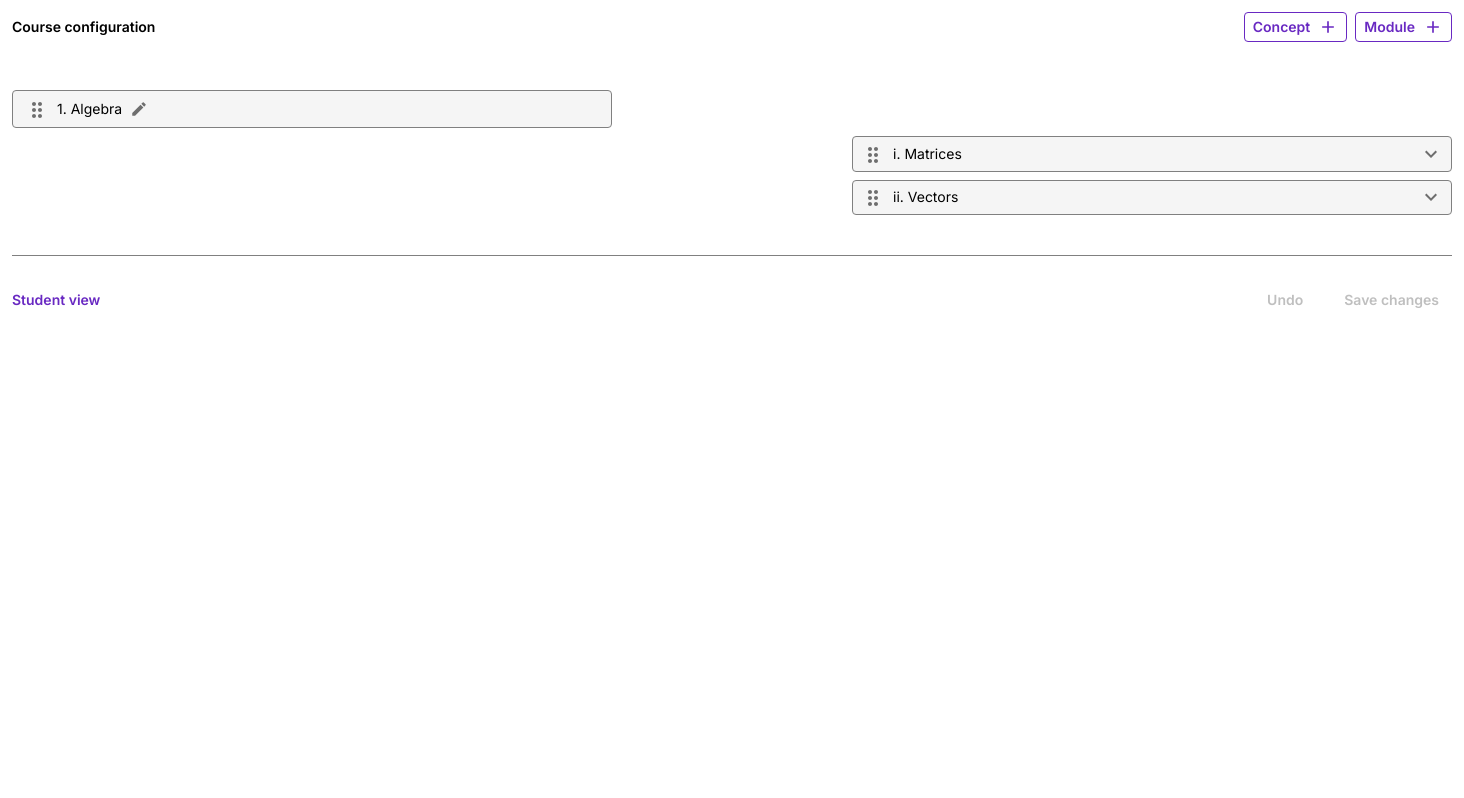
Scenario: ConfigurationTab › stages a module deletion — hiding the row and renumbering siblings — without persisting
// The module Delete link only exists once the row is expanded.
Click the button "i. Matrices" at (933, 153), box x1=893 y1=142 x2=1443 y2=166
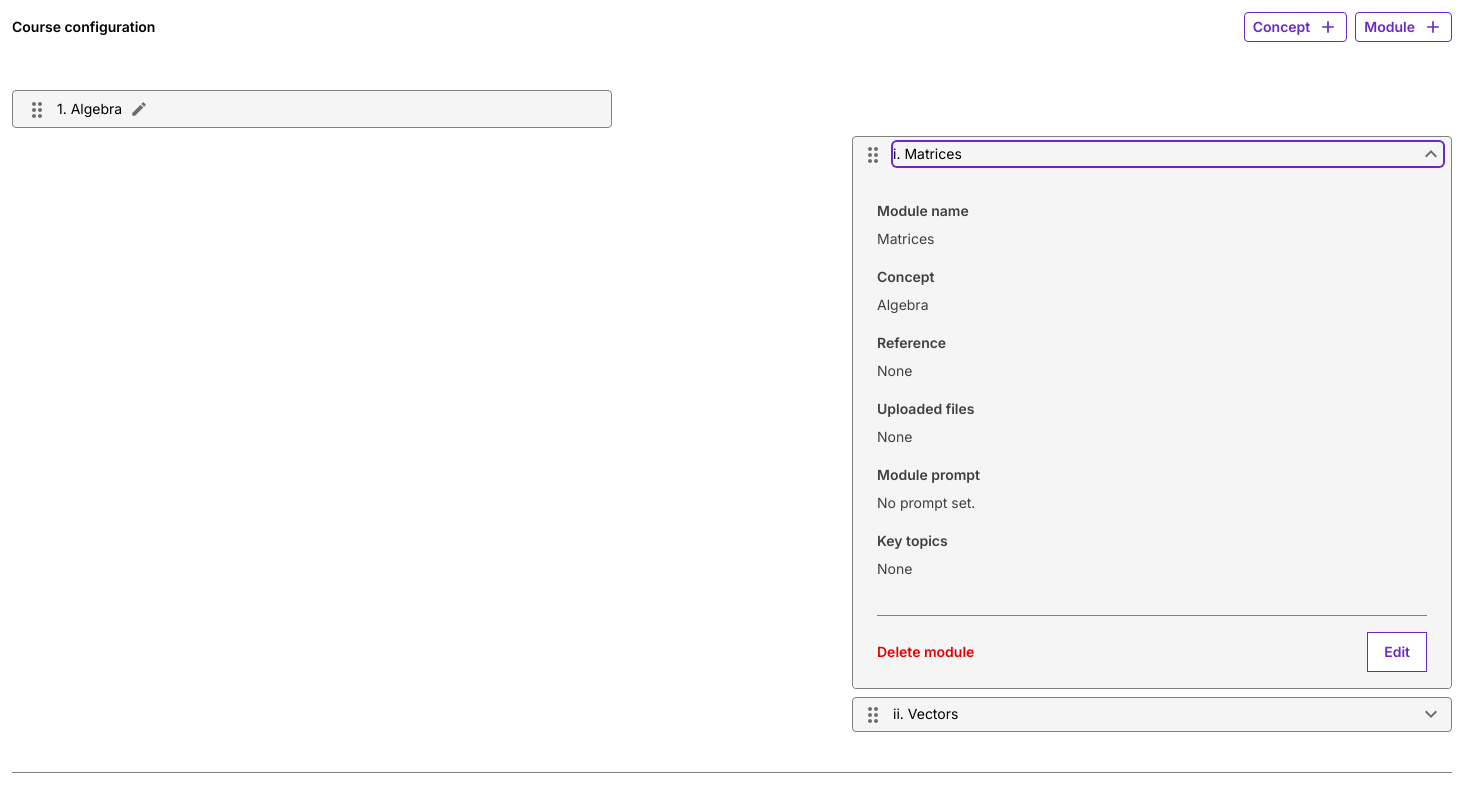
Click the button "Delete module" at (926, 652), box x1=877 y1=632 x2=974 y2=672
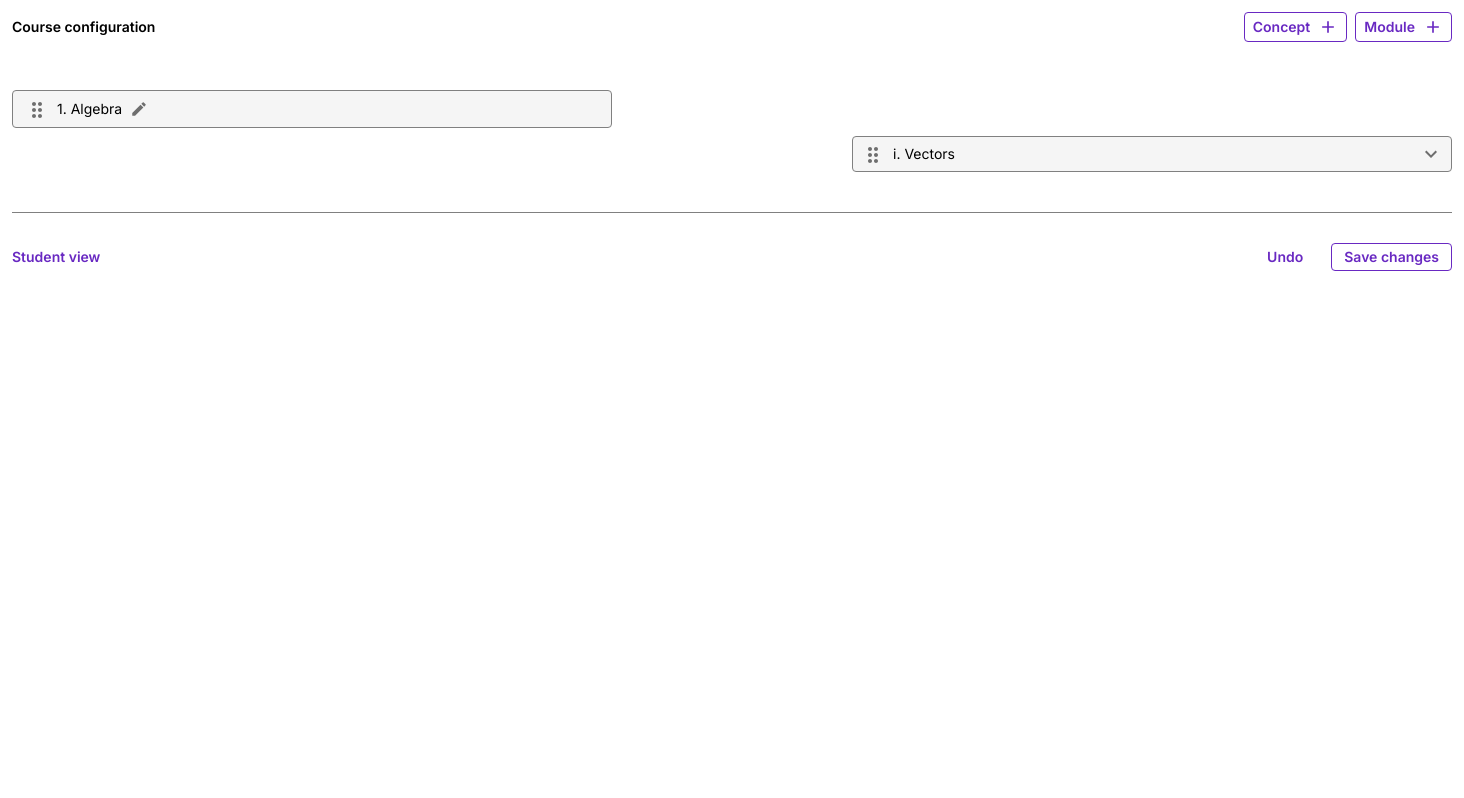
Check: the button "i. Matrices" is gone
Check: the button "Undo" is enabled, box x1=1255 y1=243 x2=1315 y2=271
Check: the button "Save changes" is enabled, box x1=1331 y1=243 x2=1452 y2=271
